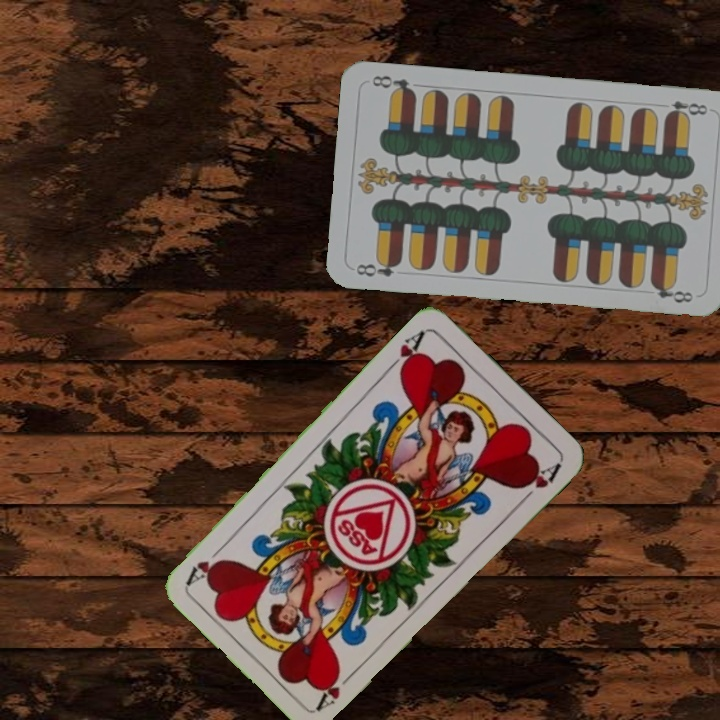E8: (352, 255, 404, 280), (662, 97, 711, 121)
HA: (383, 326, 429, 378), (313, 665, 360, 712)
